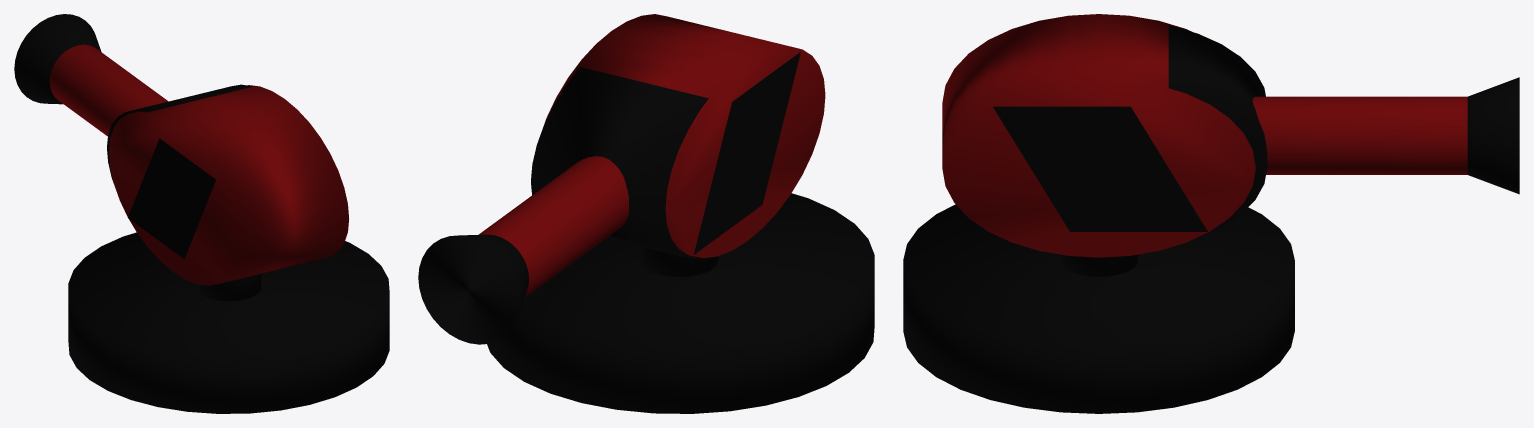
The model's file is Turret.fbx.
3 renders of one model, left to right at view 1: azimuth 30°, elevation 25°; view 2: azimuth 150°, elevation 25°; view 3: azimuth 270°, elevation 25°, orthographic. The views are drawn at different scales.
Parts seen in each view (by area): view 1: Cylinder, Base; view 2: Cylinder, Base; view 3: Cylinder, Base.
Boxes of the visible parts, left/top/right/bottom form: Cylinder: left=14, top=14, right=348, bottom=285; Base: left=68, top=232, right=389, bottom=413; Cylinder: left=418, top=14, right=825, bottom=344; Base: left=487, top=193, right=874, bottom=413; Cylinder: left=942, top=14, right=1519, bottom=257; Base: left=903, top=204, right=1294, bottom=413.
Bounding box in the file's own units: 100 × 80.05 × 157.
